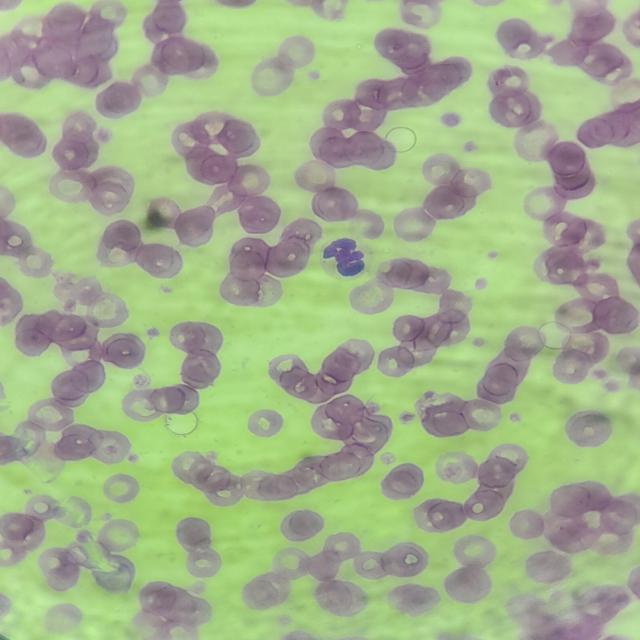Neutrofilo: (311, 230, 384, 284)
